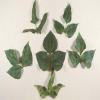Soyabean leaf: (43, 30, 58, 54), (51, 51, 66, 72), (82, 48, 96, 70), (35, 51, 50, 71), (67, 48, 80, 69), (75, 32, 86, 55)
